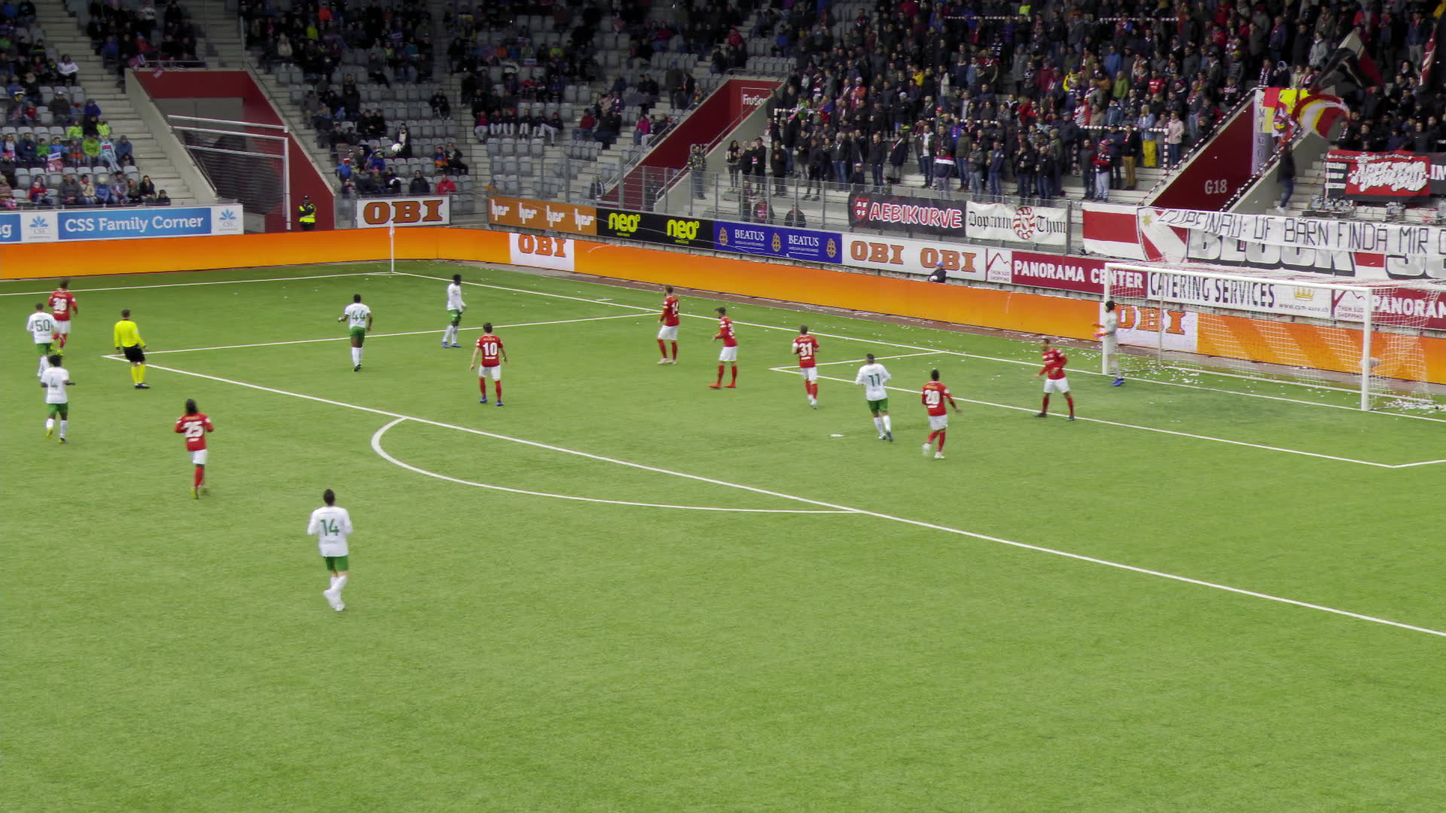ball: (390, 142, 402, 153)
player: (304, 484, 358, 618), (170, 396, 218, 502), (914, 367, 964, 463), (851, 348, 896, 447), (1029, 335, 1077, 425), (38, 352, 81, 448), (24, 298, 68, 382), (468, 321, 510, 407), (1089, 297, 1127, 388), (41, 275, 81, 358), (334, 291, 374, 373), (789, 323, 825, 411), (705, 305, 740, 392), (648, 283, 684, 367), (435, 273, 468, 351)
referee: (109, 306, 154, 390)
